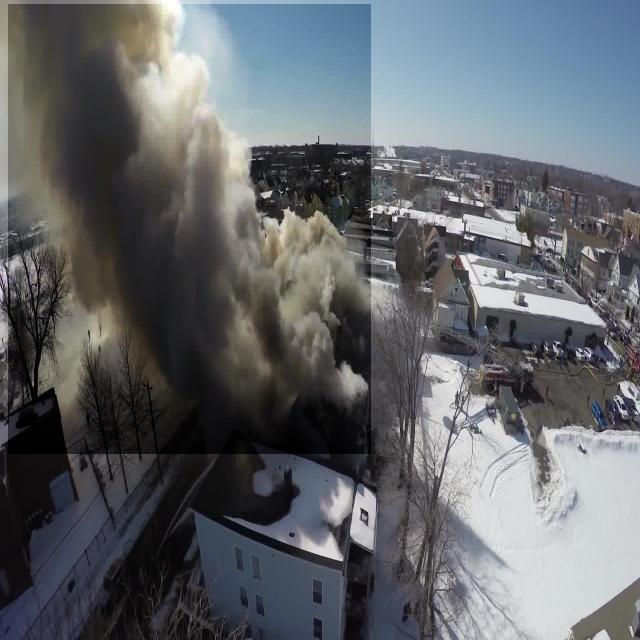Smoke: (8, 4, 371, 454)
